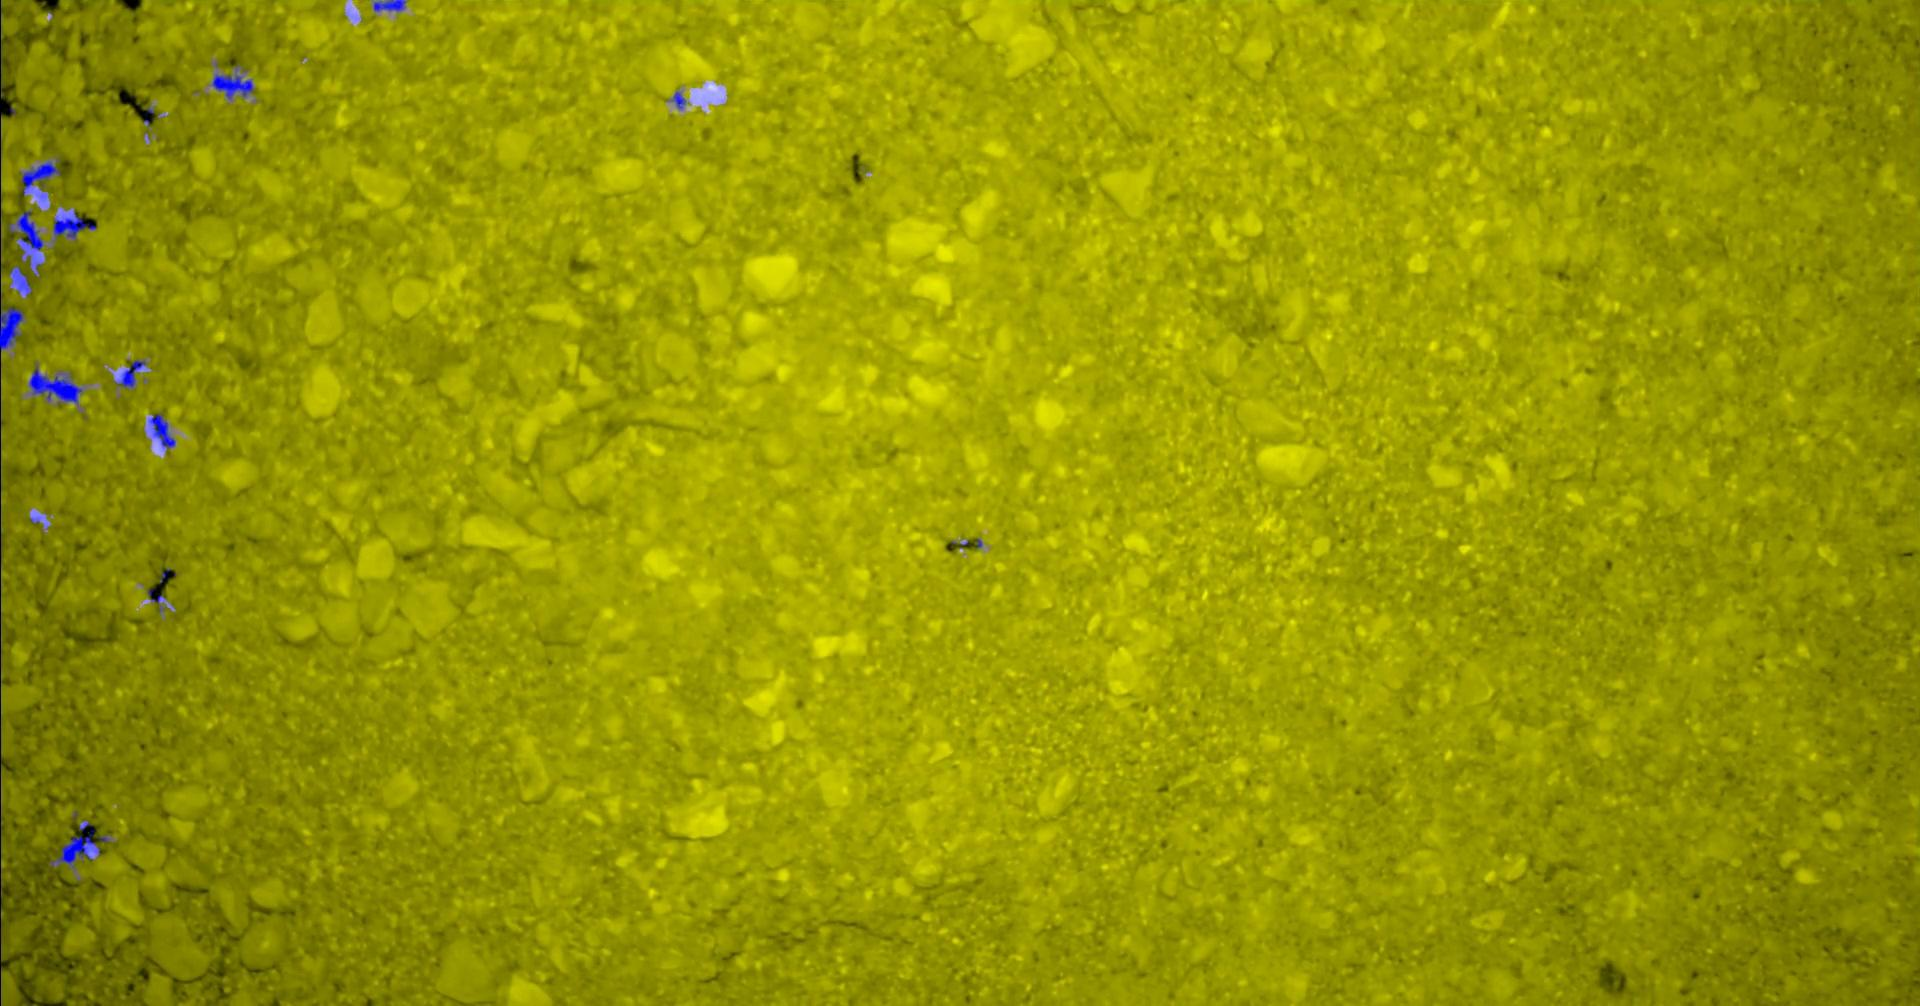ant: (50, 819, 99, 868), (28, 365, 83, 404), (8, 210, 42, 265), (211, 64, 253, 99), (0, 291, 23, 351), (20, 161, 58, 196), (53, 210, 95, 238), (149, 413, 175, 448), (114, 359, 145, 387), (9, 265, 30, 295), (146, 589, 165, 612), (373, 0, 405, 11), (670, 91, 684, 108), (0, 37, 1, 97)
